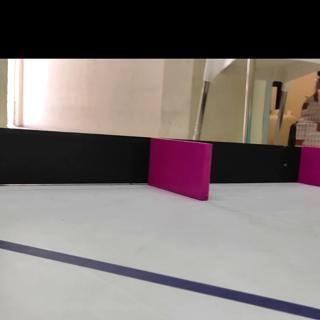xparking: (150, 138, 210, 196), (303, 146, 320, 187)
